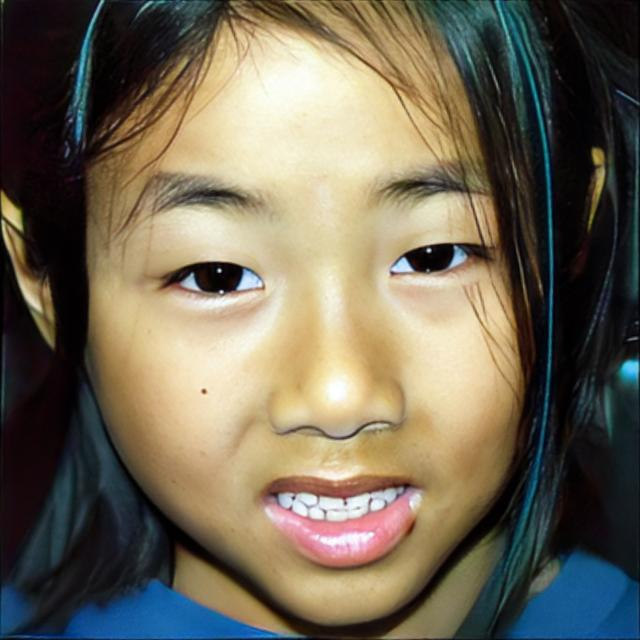surprise: (84, 0, 530, 630)
